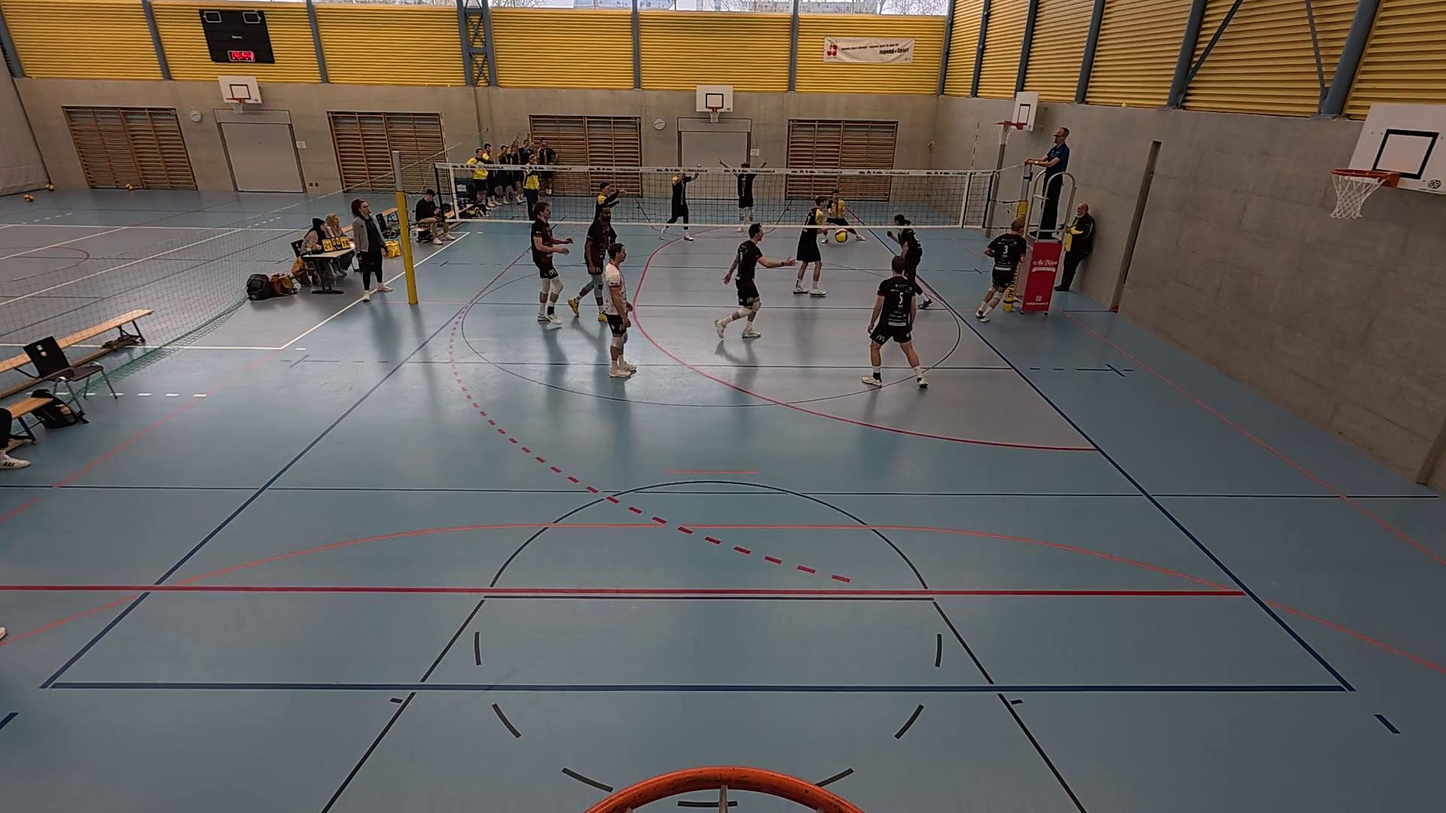Player: (863, 251, 927, 388), (715, 224, 789, 341), (975, 218, 1030, 322), (570, 210, 617, 320), (600, 243, 636, 379), (530, 204, 569, 326), (792, 189, 832, 302), (888, 213, 934, 309), (722, 153, 770, 239), (660, 160, 702, 239), (592, 177, 627, 269), (822, 189, 870, 247)
ball: (834, 227, 851, 242)
